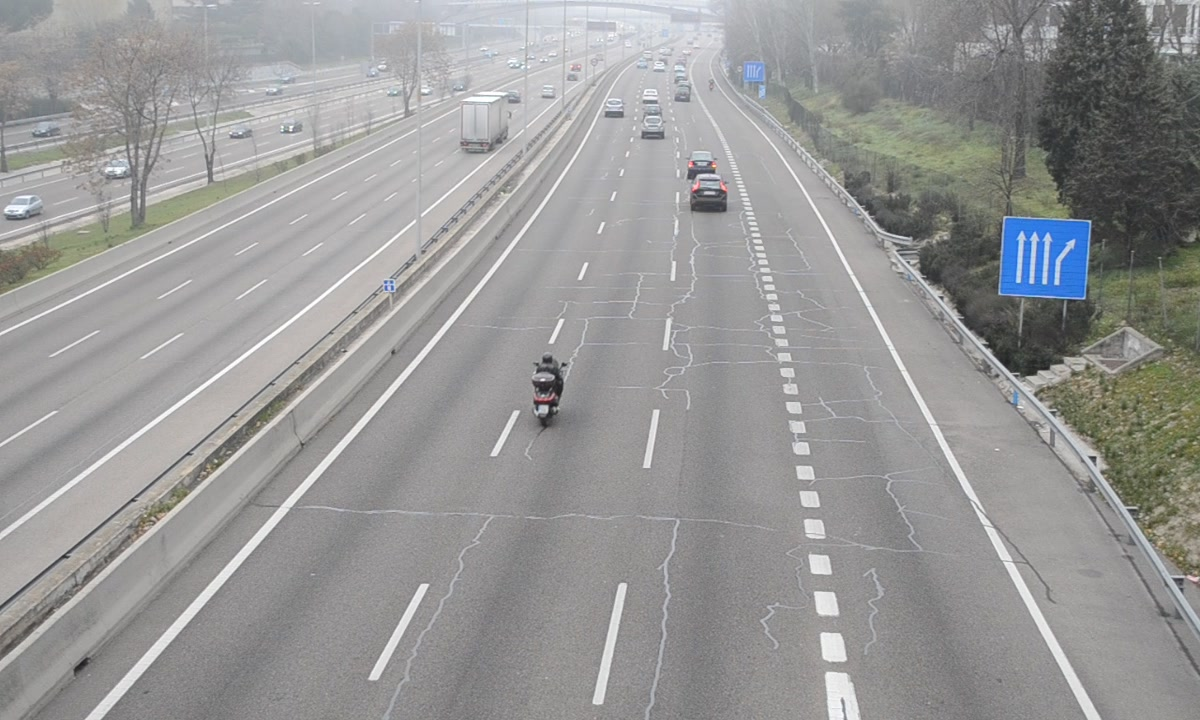car: (690, 174, 729, 211), (686, 149, 716, 177)
motorcycle: (529, 351, 567, 430)
